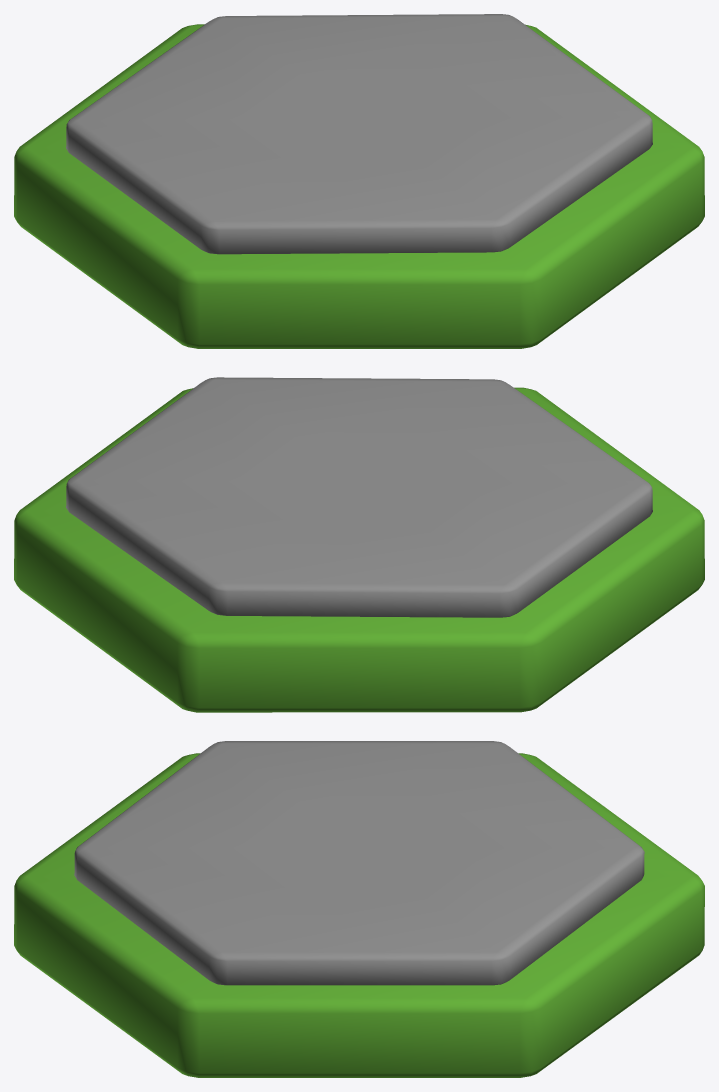
The model's file is TejaHexagonalVerde.fbx.
The picture shows the model from 3 angles, top to bottom: view 1: azimuth 30°, elevation 25°; view 2: azimuth 150°, elevation 25°; view 3: azimuth 270°, elevation 25°; orthographic projection.
Visible parts, largest first — view 1: Plarform, Grass; view 2: Plarform, Grass; view 3: Plarform, Grass.
Part boxes in pixels (box(x1,y1,x2,y2)): Plarform: box(66, 14, 652, 254); Grass: box(14, 24, 704, 348); Plarform: box(66, 377, 652, 617); Grass: box(14, 387, 704, 712); Plarform: box(74, 741, 644, 985); Grass: box(14, 753, 704, 1077).
Size of the model in its own units: 175 by 34.11 by 200.
